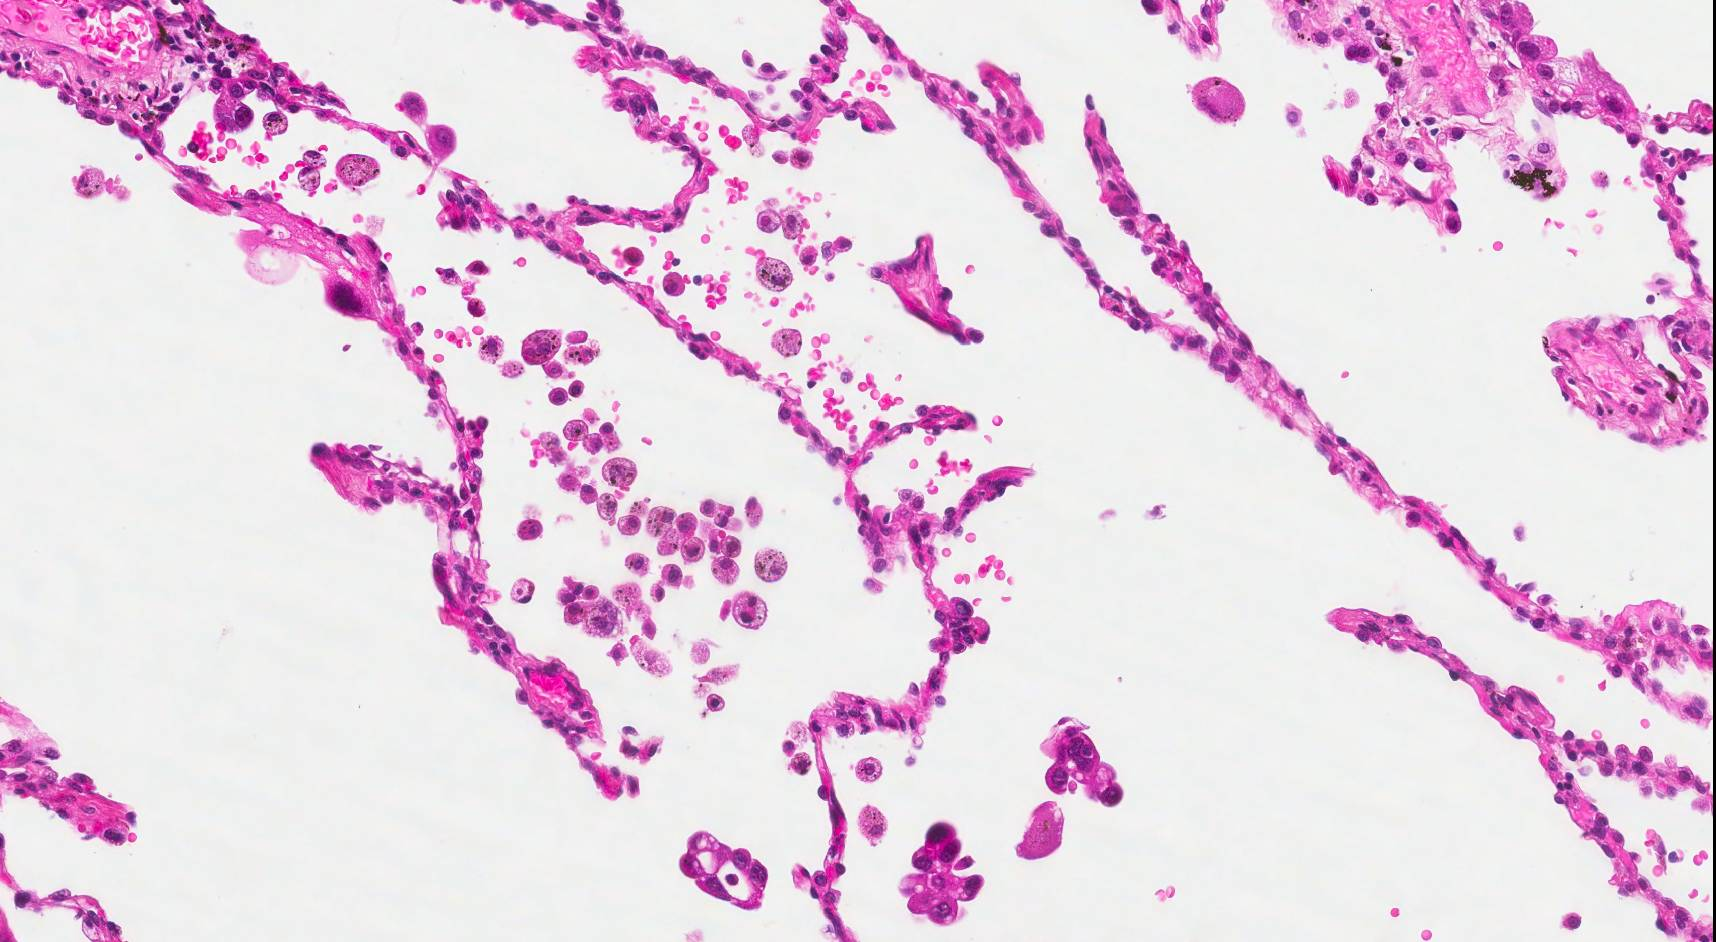stas: (895, 821, 987, 933), (1039, 711, 1127, 812)
